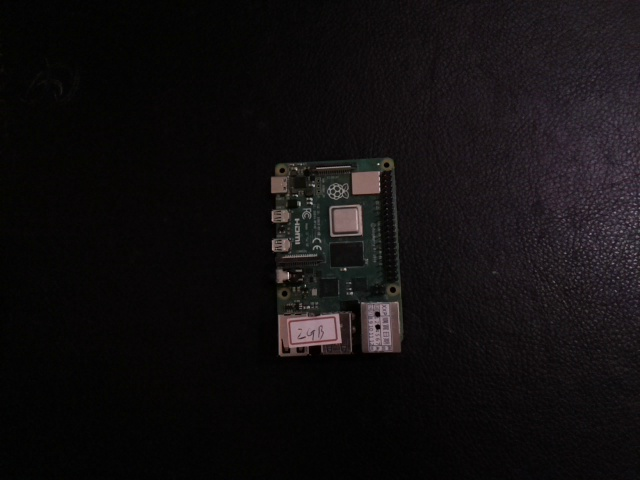pi4: (219, 144, 442, 367)
